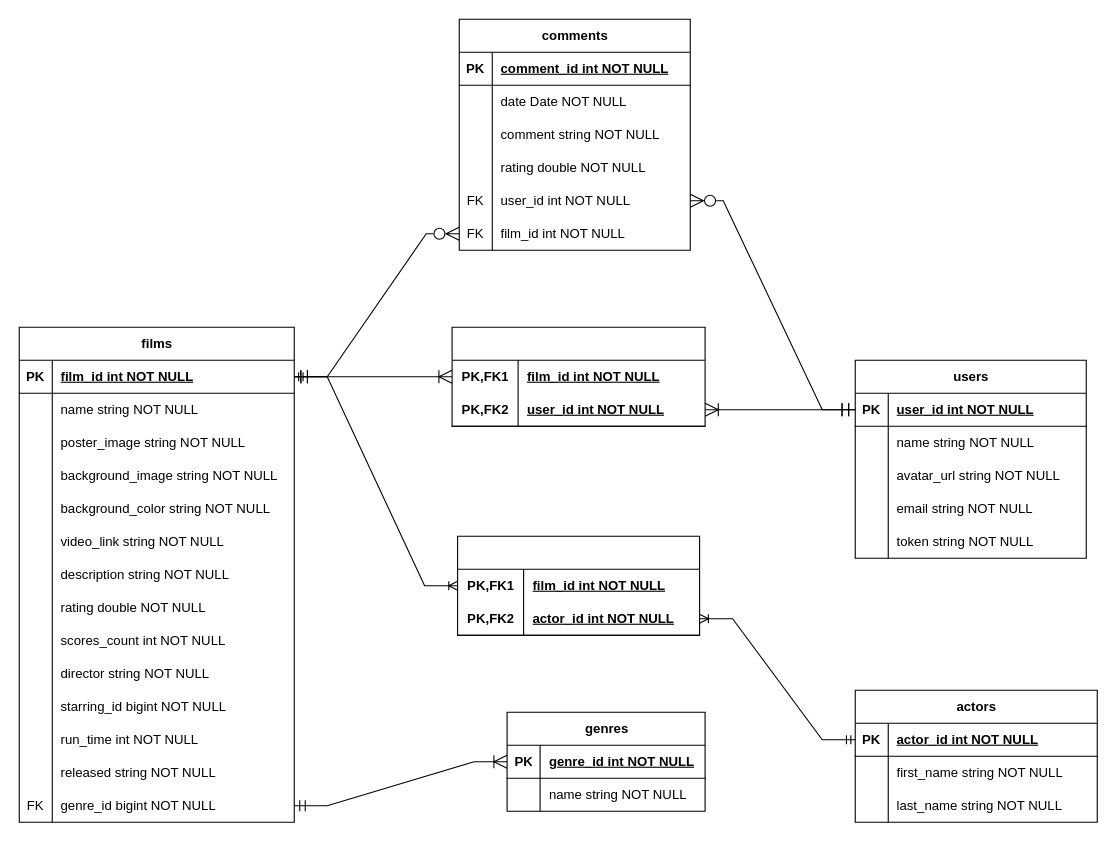
The diagram is 1117 pixels wide and 842 high, and some of its shapes have lost their labels. The shapes that lost their labels are listed below. From the top down, each one's box as (x1, y1, x2, y2) in pixels, then its label:
(451, 326, 705, 426): favorite_films
(457, 535, 700, 635): films_actors
